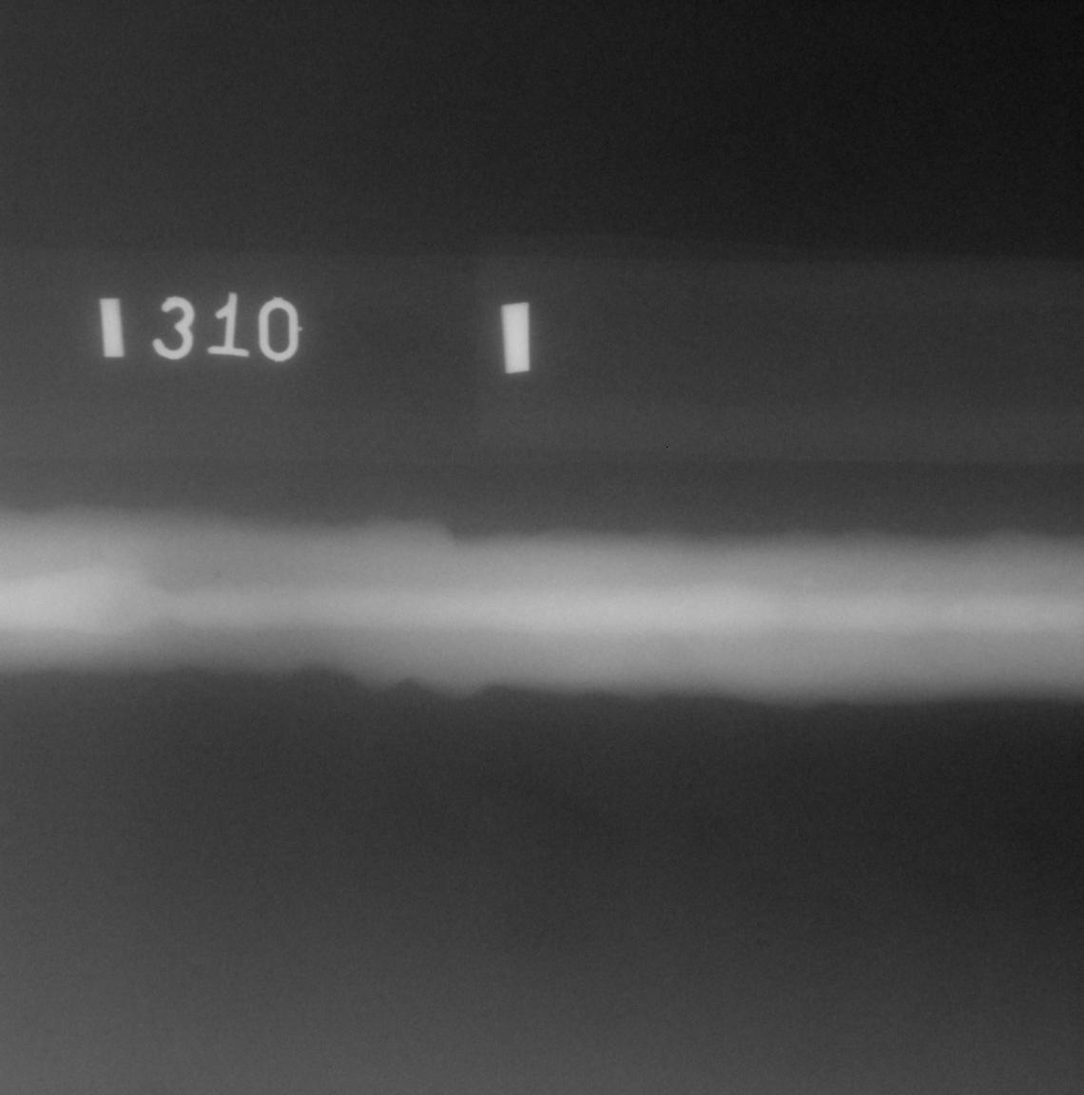Pore/Porosity: (215, 572, 221, 578)
